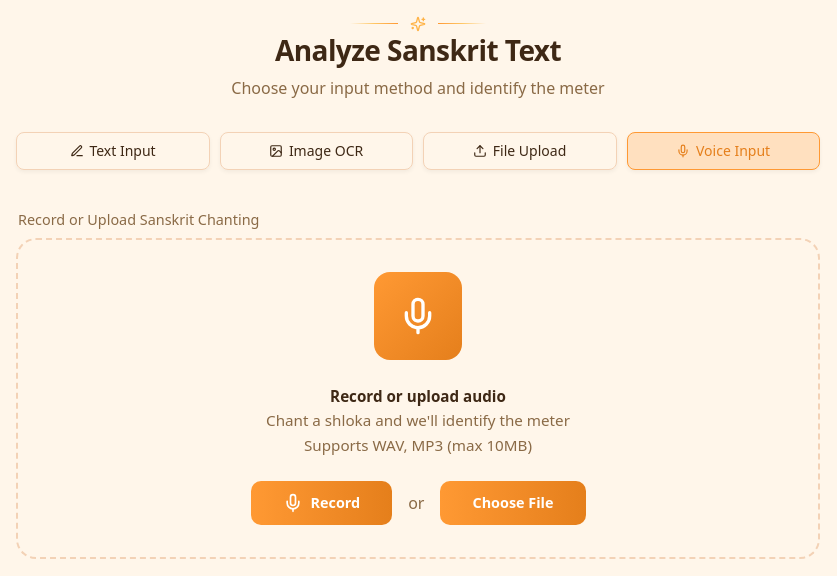
Scenario: AnalysisForm tabs › restores the tab from the previous visit and remembers a new choice
expect the text "Record or Upload Sanskrit Chanting" is shown: met, box [18,210,259,229]
Click the button "File Upload" at (520, 151), box [423,132,616,170]
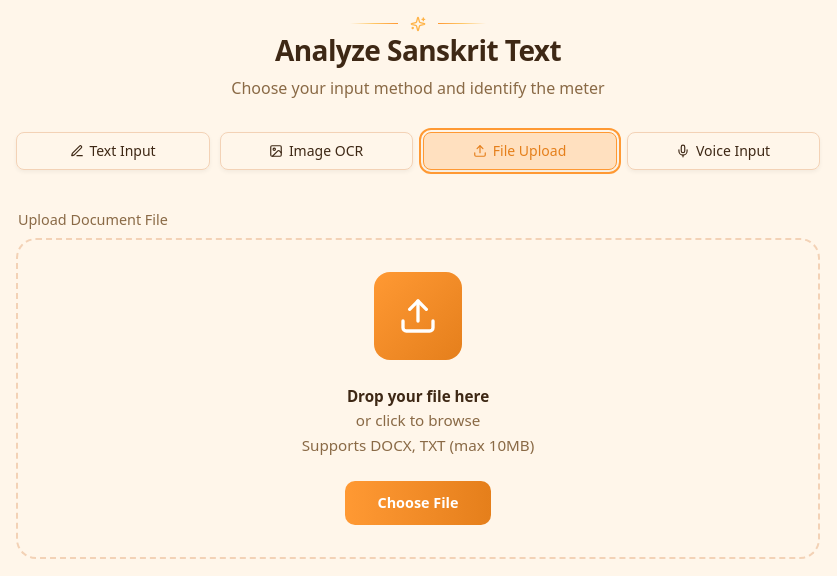
expect the text "Upload Document File" is shown: met, box [18,210,168,229]
